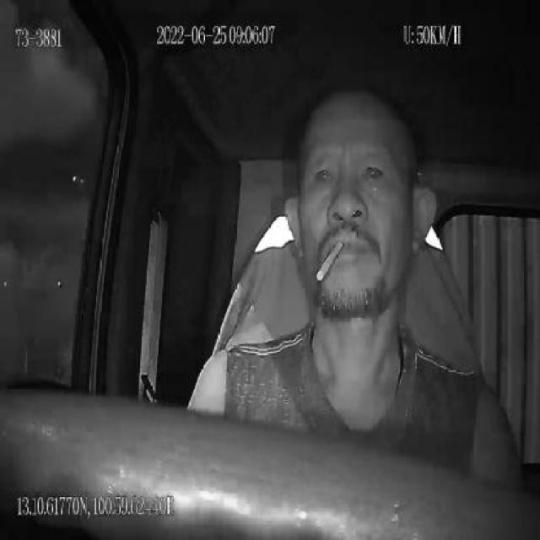smoking: (316, 240, 344, 281)
